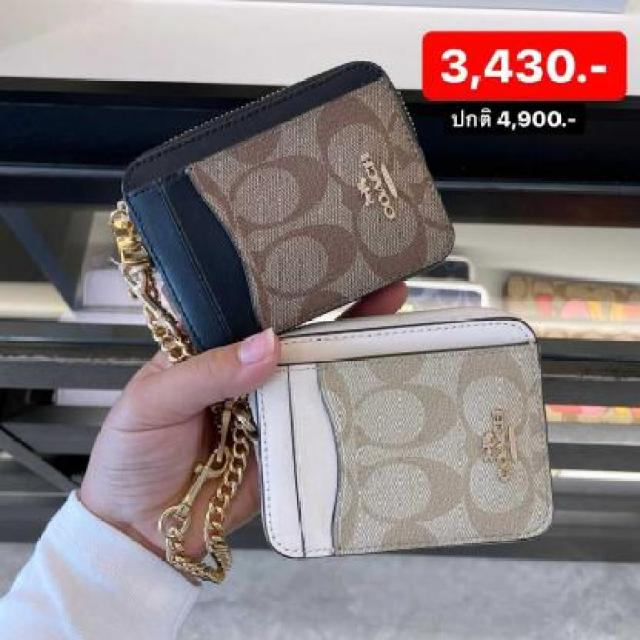Bag: (59, 52, 504, 354), (228, 302, 581, 567)
